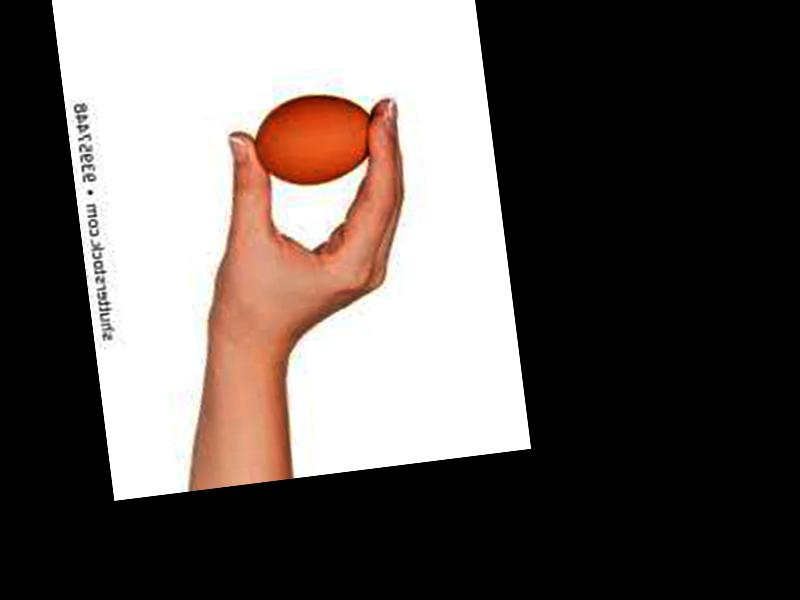Eggs: (249, 88, 385, 189)
